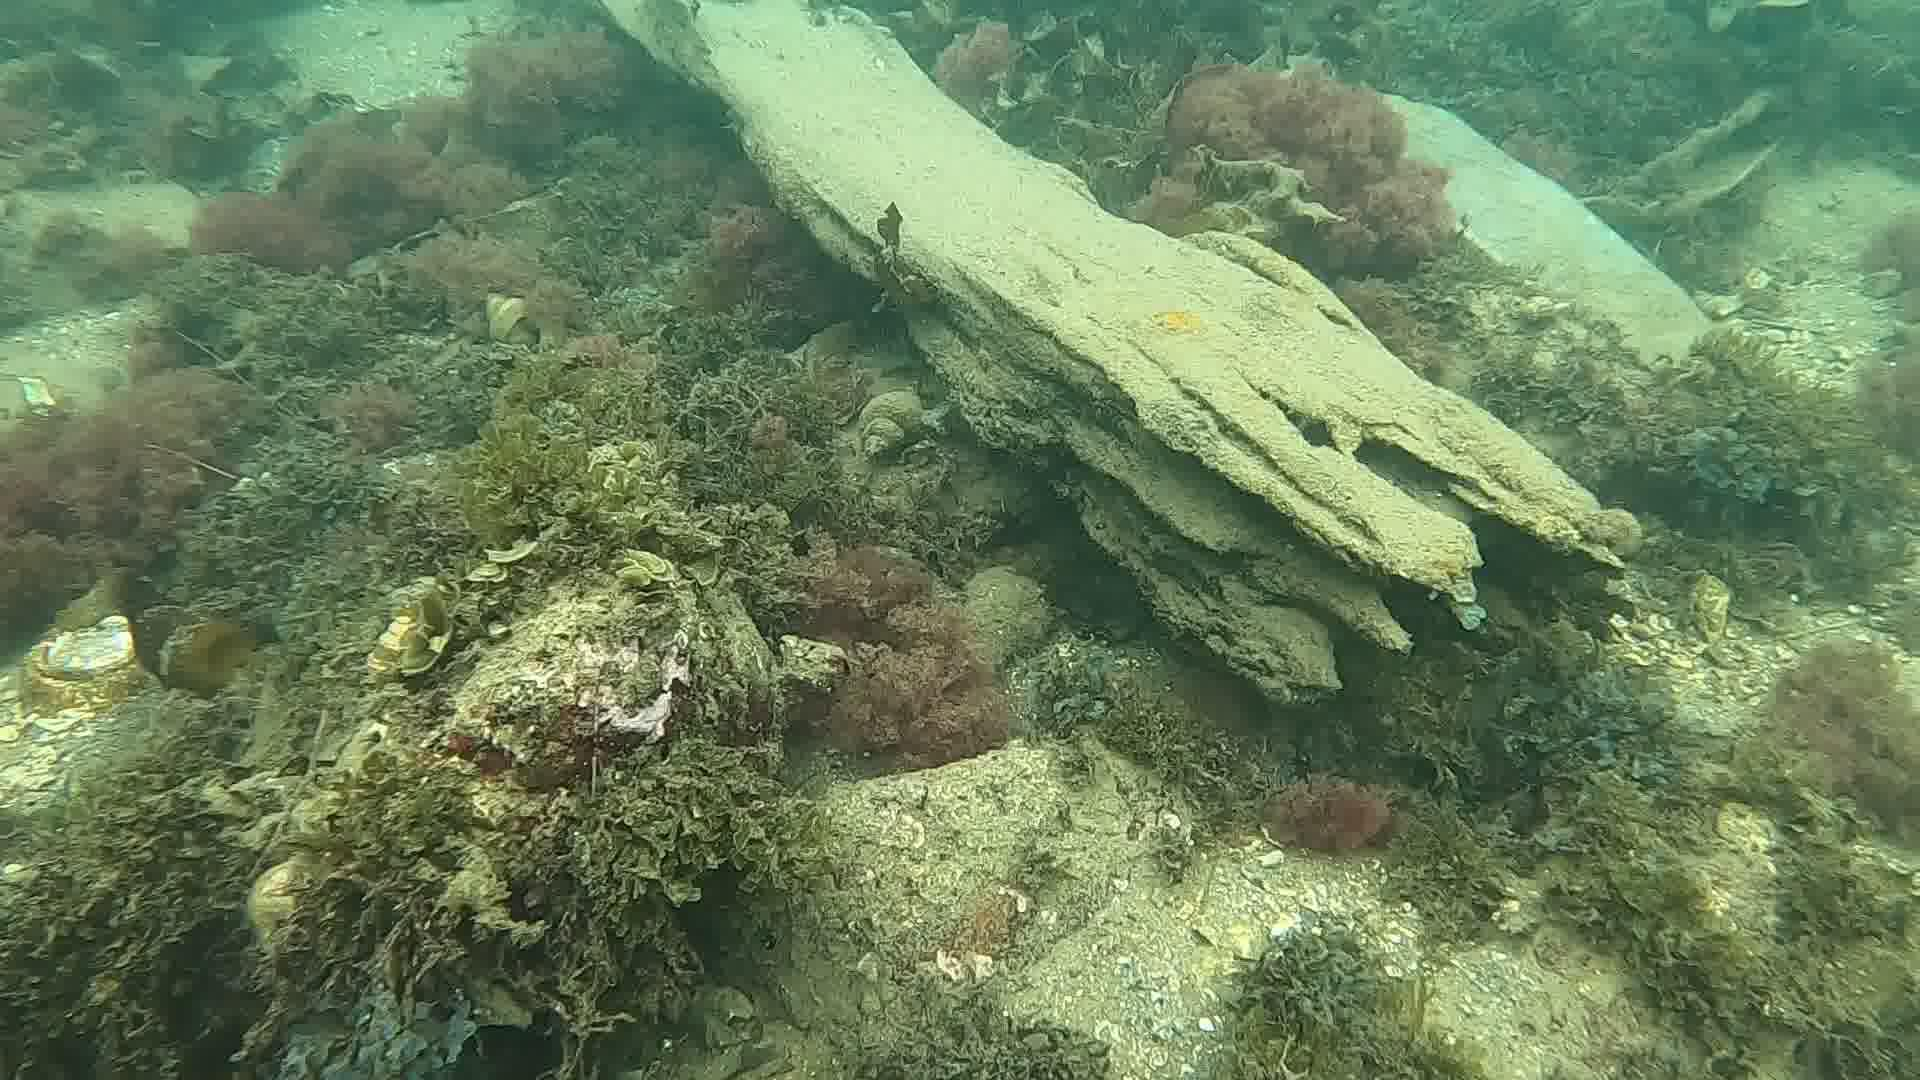wood: (597, 0, 1625, 709)
